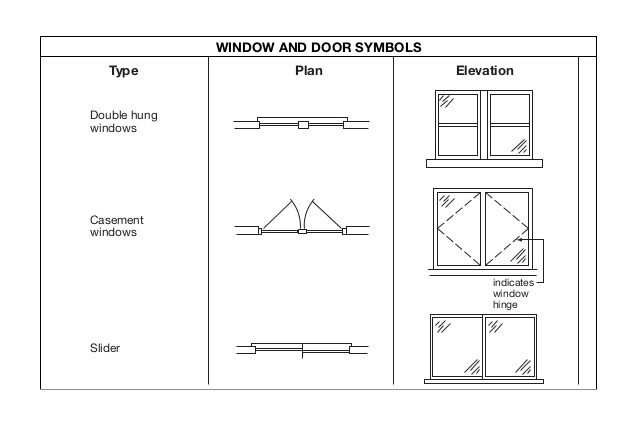window: (228, 191, 379, 259), (220, 322, 378, 375), (227, 104, 379, 143)
